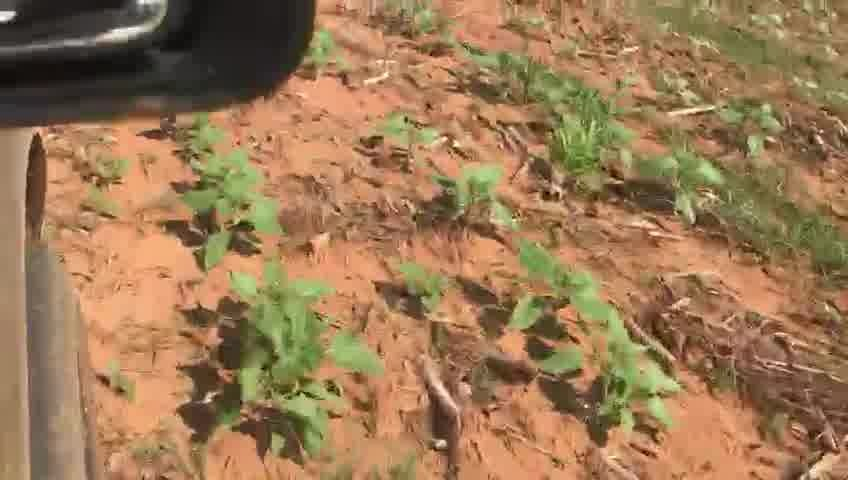sunflower: (201, 261, 339, 454), (581, 307, 686, 435), (173, 145, 288, 257), (502, 242, 607, 332), (451, 160, 515, 234), (372, 114, 441, 160)
